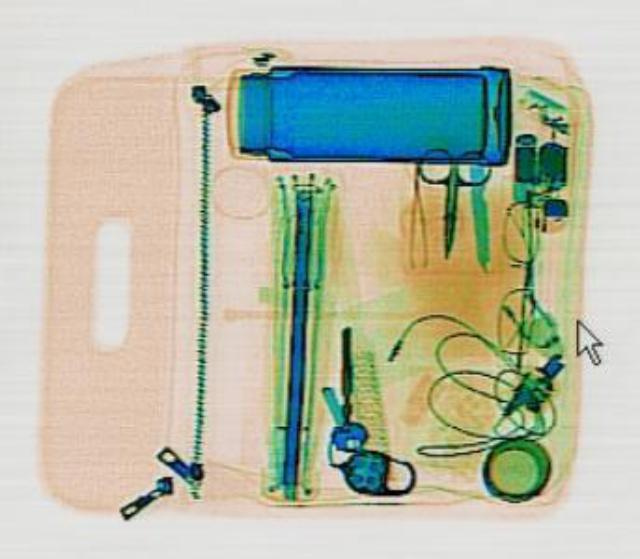Scissors: (406, 143, 488, 260)
